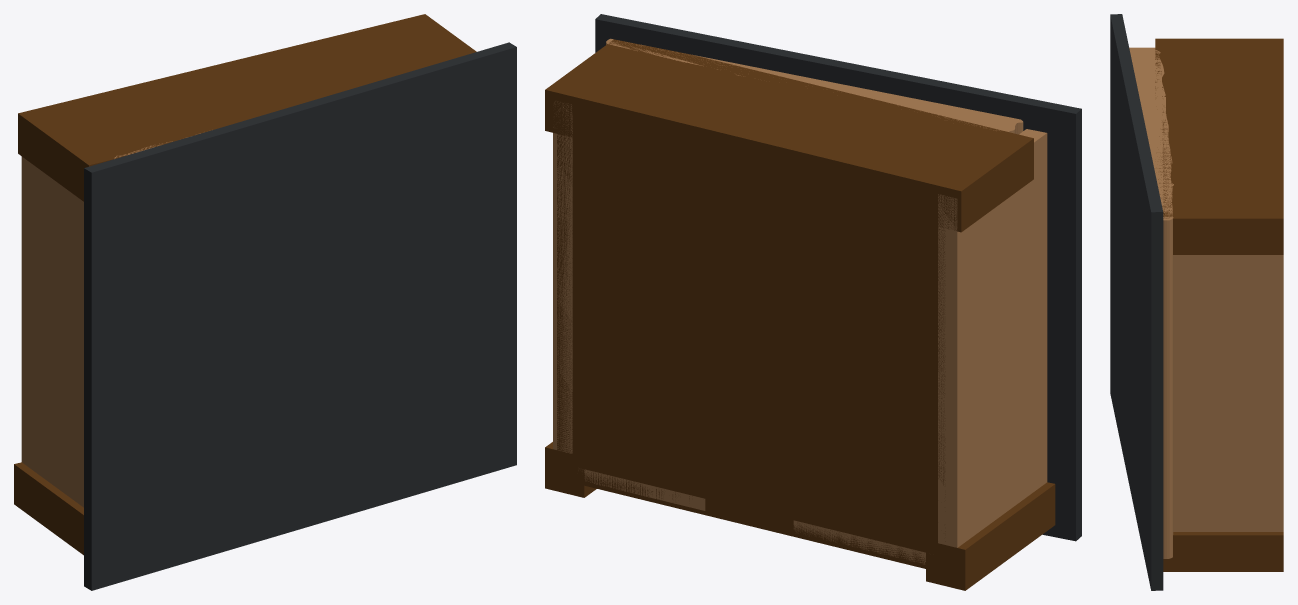
The model's file is tinker.obj.
The picture shows the model from 3 angles, left to right: view 1: azimuth 30°, elevation 25°; view 2: azimuth 150°, elevation 25°; view 3: azimuth 270°, elevation 25°; orthographic projection. The views are drawn at different scales.
Visible parts, largest first — view 1: obj_5, obj_3, obj_7, obj_6; view 2: obj_1, obj_3, obj_7, obj_5, obj_4, obj_6, obj_8, obj_9, obj_0; view 3: obj_4, obj_3, obj_5, obj_8, obj_0.
Boxes of the visible parts, x1,y1,x2,y2 form: obj_5: (84, 42, 516, 590); obj_3: (18, 14, 476, 201); obj_7: (21, 156, 83, 507); obj_6: (14, 462, 83, 555); obj_1: (557, 117, 945, 568); obj_3: (545, 39, 1033, 232); obj_7: (938, 129, 1047, 547); obj_5: (595, 14, 1081, 541); obj_4: (553, 101, 572, 453); obj_6: (926, 482, 1055, 590); obj_8: (606, 38, 1023, 134); obj_9: (578, 468, 925, 564); obj_0: (545, 442, 596, 497); obj_4: (1173, 255, 1283, 531); obj_3: (1155, 38, 1283, 254); obj_5: (1110, 14, 1163, 590); obj_8: (1129, 49, 1173, 558); obj_0: (1163, 532, 1283, 571).
Bounding box in the file's own units: 117 × 104 × 43.19.
